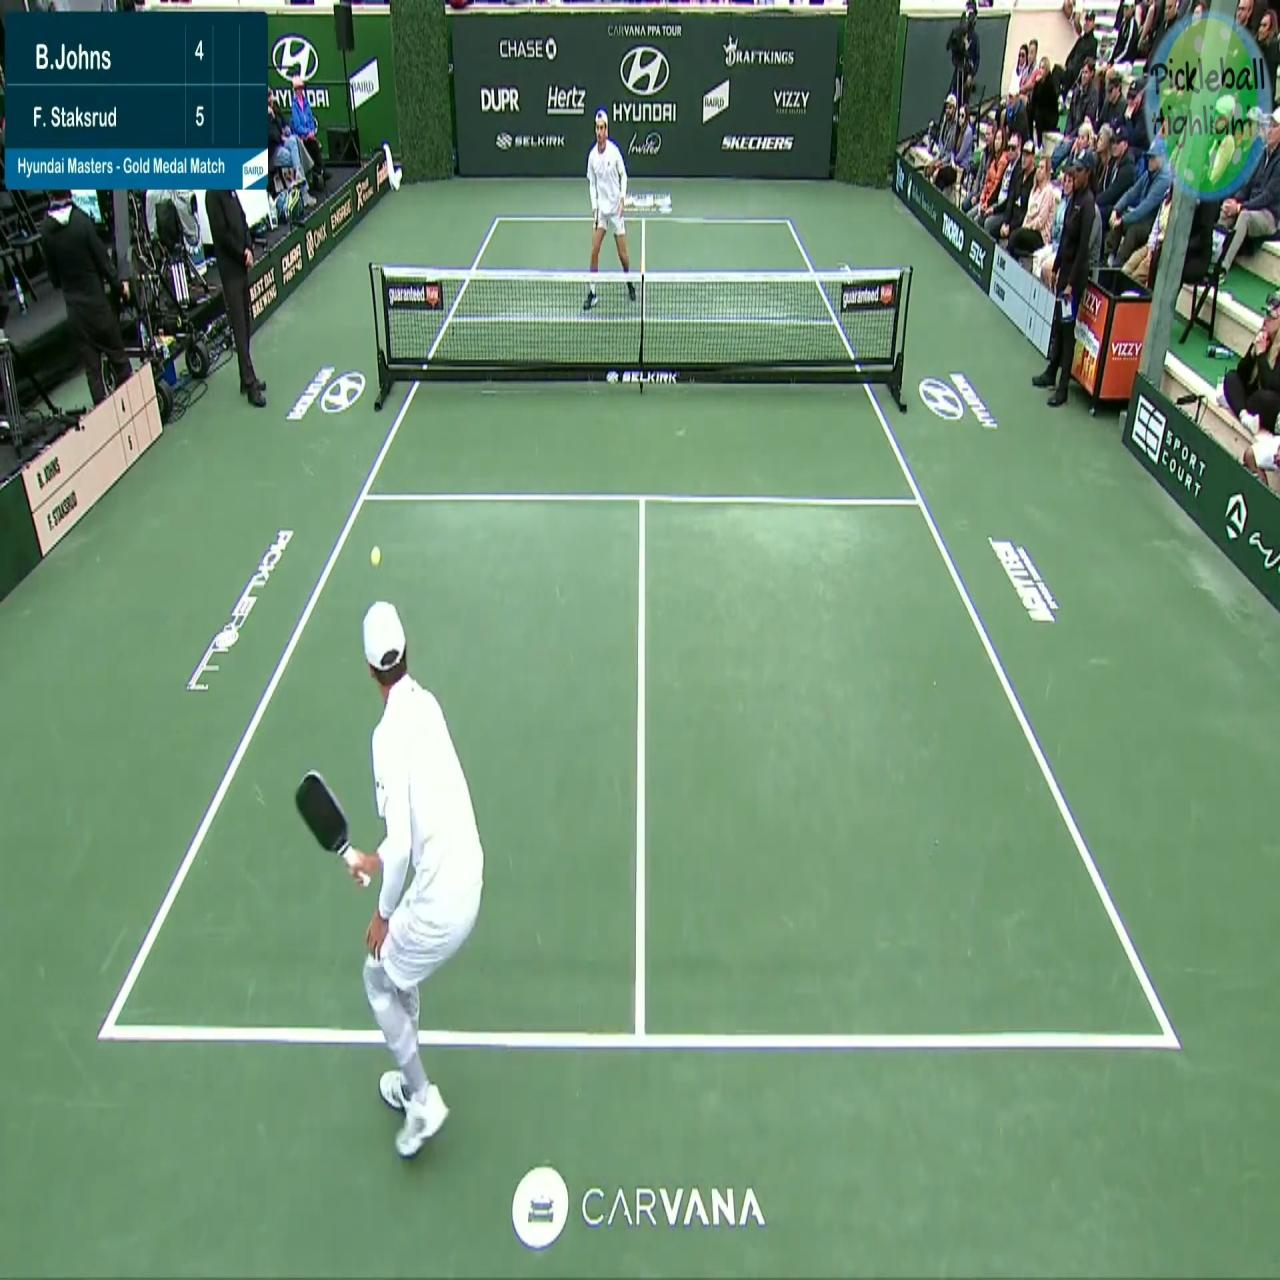pickleball: (370, 546, 381, 565)
